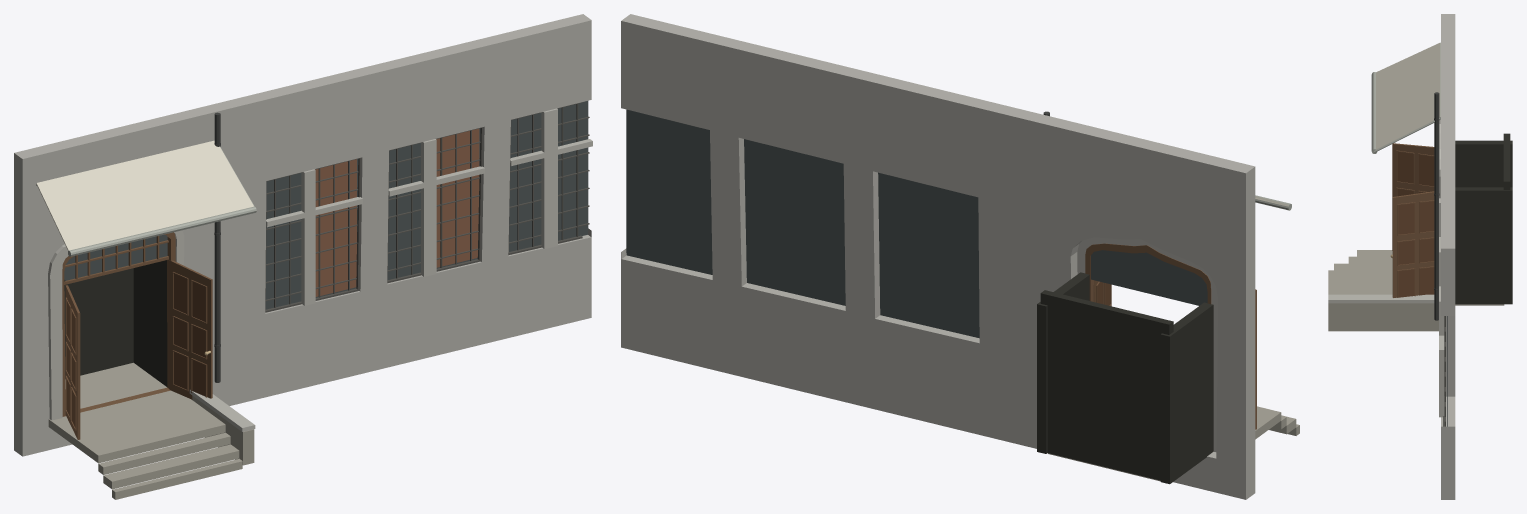
File: lod-side-entrance.glb
The picture shows the model from 3 angles, left to right: view 1: azimuth 30°, elevation 25°; view 2: azimuth 150°, elevation 25°; view 3: azimuth 270°, elevation 25°; orthographic projection. The views are drawn at different scales.
Parts seen in each view (by area): view 1: lod-side-entrance; view 2: lod-side-entrance; view 3: lod-side-entrance.
Boxes of the visible parts, x1,y1,x2,y2 form: lod-side-entrance: (14, 14, 592, 499); lod-side-entrance: (621, 14, 1299, 499); lod-side-entrance: (1328, 14, 1512, 499).
Size of the model in its own units: 10.01 by 5.02 by 3.32.
